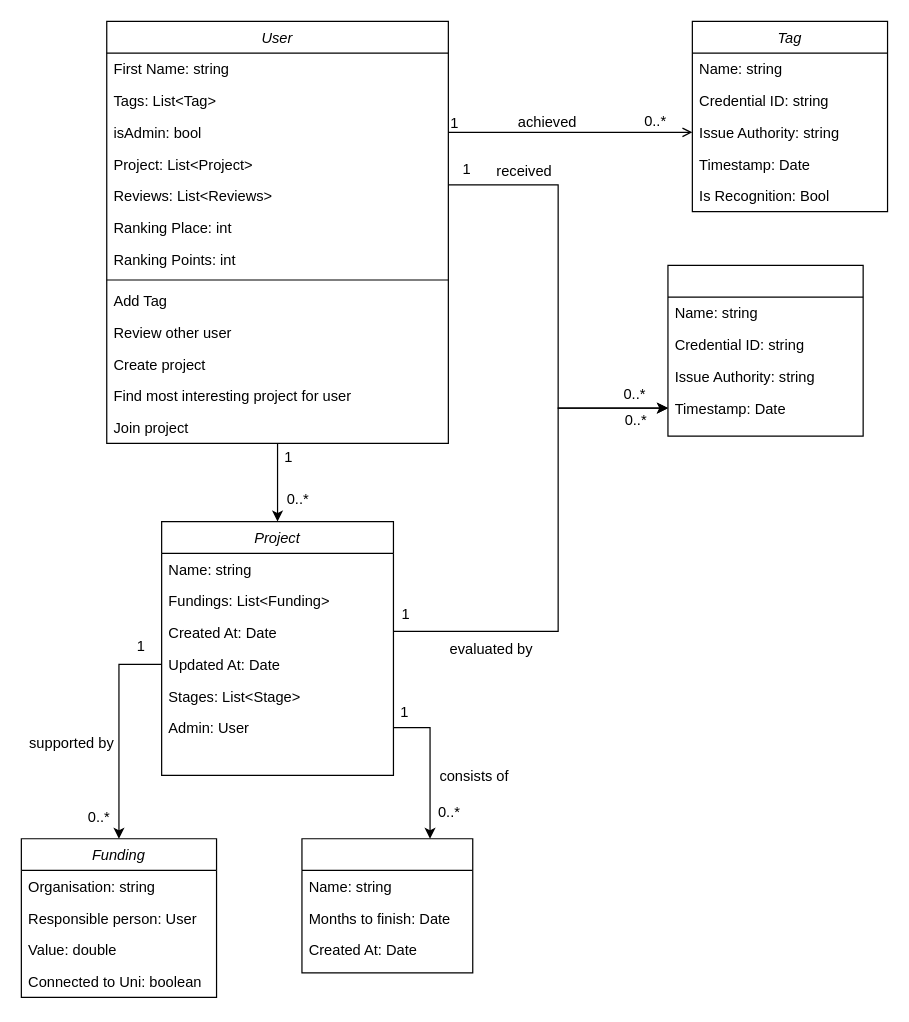
Some shapes in this 909 by 1022 pixel diagram are drawn without their labels. The box of each missing label's shape, as (x1, y1, x2, y2) in pixels:
Review: (667, 264, 863, 436)
State: (301, 838, 473, 973)
